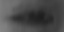LeftEyeFatigue: (5, 6, 58, 31)
